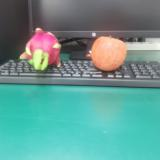apple: (91, 36, 127, 71)
pitaya: (20, 28, 61, 71)
